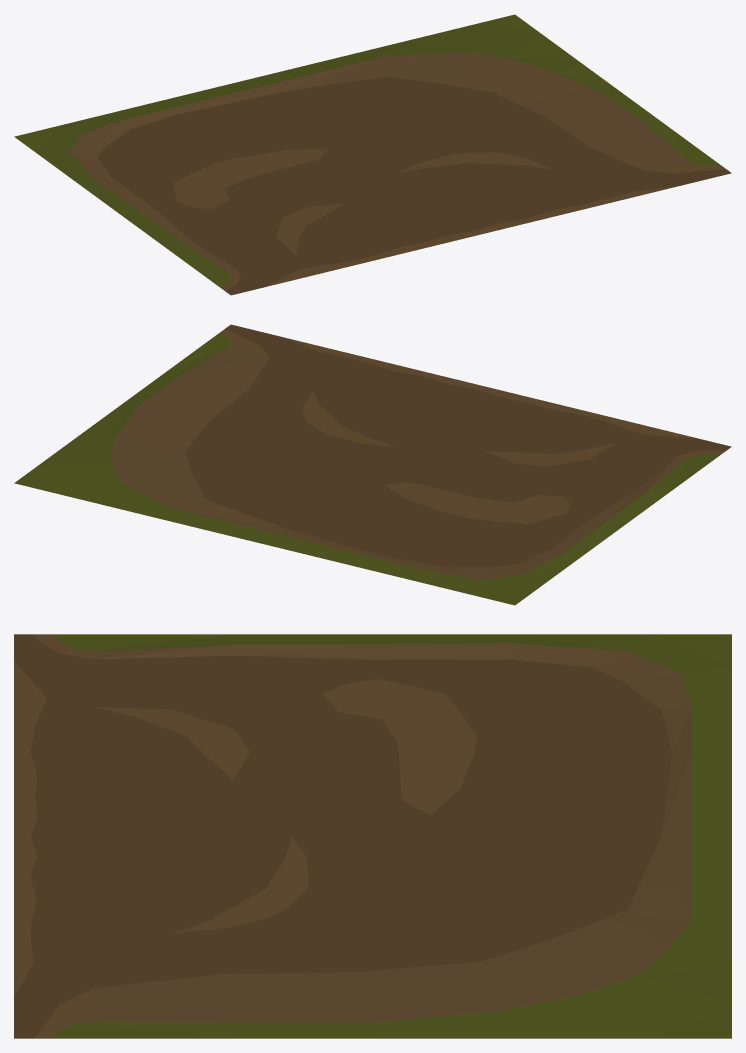
Rendered from SM_parcel_11.glb.
The picture shows the model from 3 angles, top to bottom: view 1: azimuth 30°, elevation 25°; view 2: azimuth 150°, elevation 25°; view 3: azimuth 270°, elevation 25°; orthographic projection. The views are drawn at different scales.
Visible parts, largest first — view 1: SM_parcel_11; view 2: SM_parcel_11; view 3: SM_parcel_11.
Part boxes in pixels (x1,y1,x2,y2): SM_parcel_11: [14, 14, 731, 295]; SM_parcel_11: [14, 324, 731, 605]; SM_parcel_11: [14, 634, 731, 1038].
Bounding box in the file's own units: 48 × 0.15 × 36.
1 material, 1 textured.
